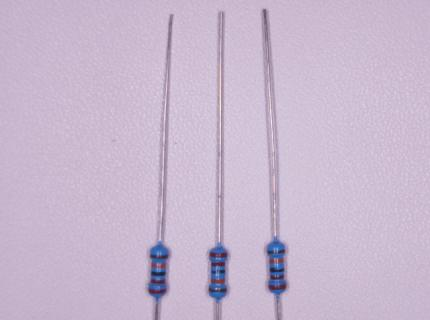Black band: (151, 271, 166, 276), (270, 268, 284, 273), (212, 269, 225, 274)
Brown band: (268, 249, 285, 254), (151, 255, 169, 259), (209, 288, 227, 292)
Orange band: (269, 258, 284, 264), (152, 263, 166, 268), (212, 279, 225, 283)
Red band: (210, 252, 228, 258), (269, 284, 285, 290), (149, 289, 166, 294), (150, 279, 165, 284), (270, 274, 284, 279), (211, 262, 225, 266)
